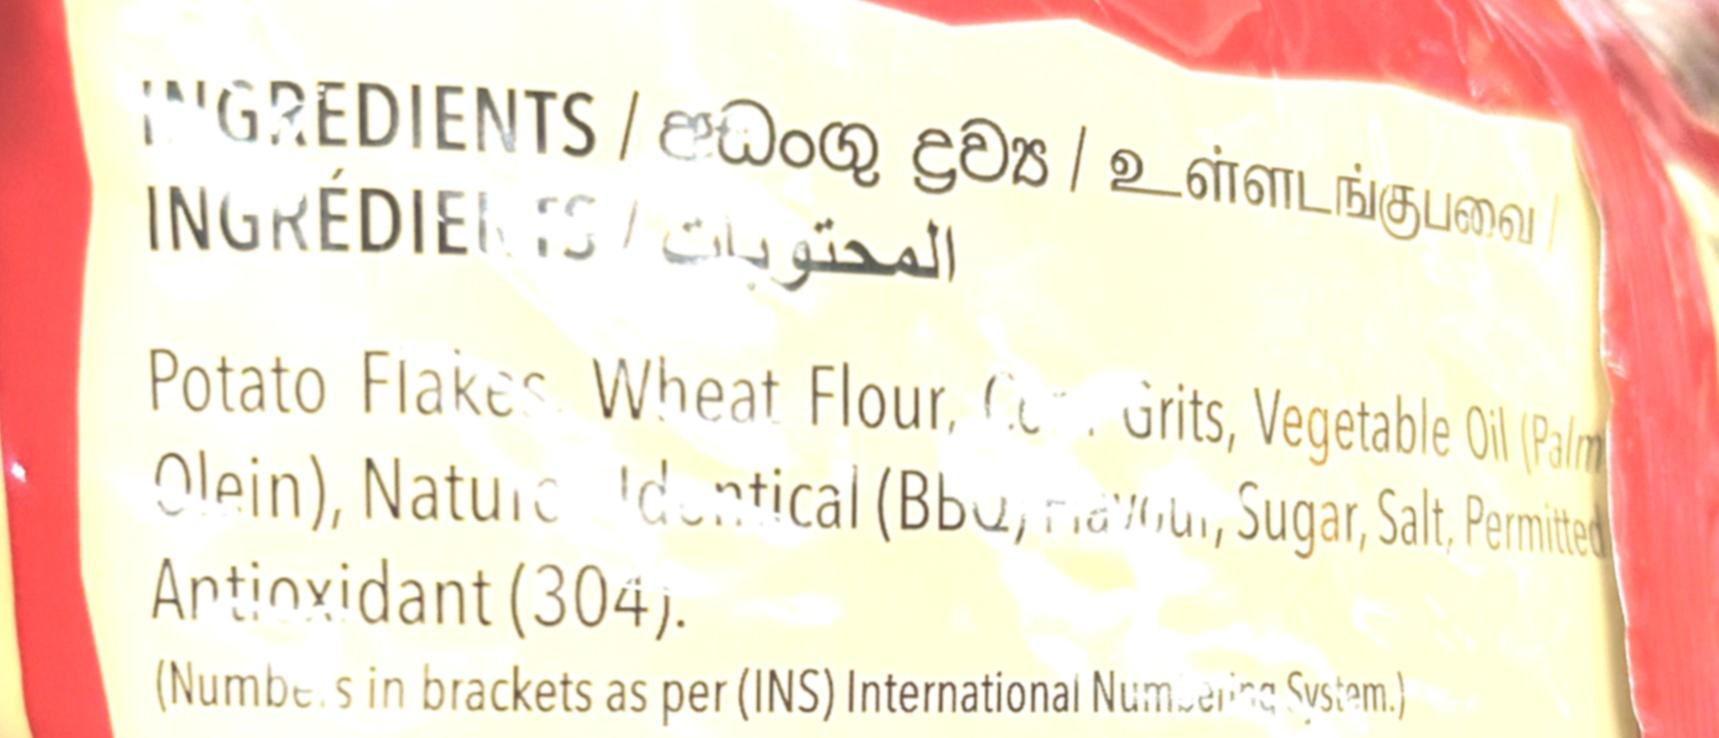ingredients: (92, 57, 1658, 661)
